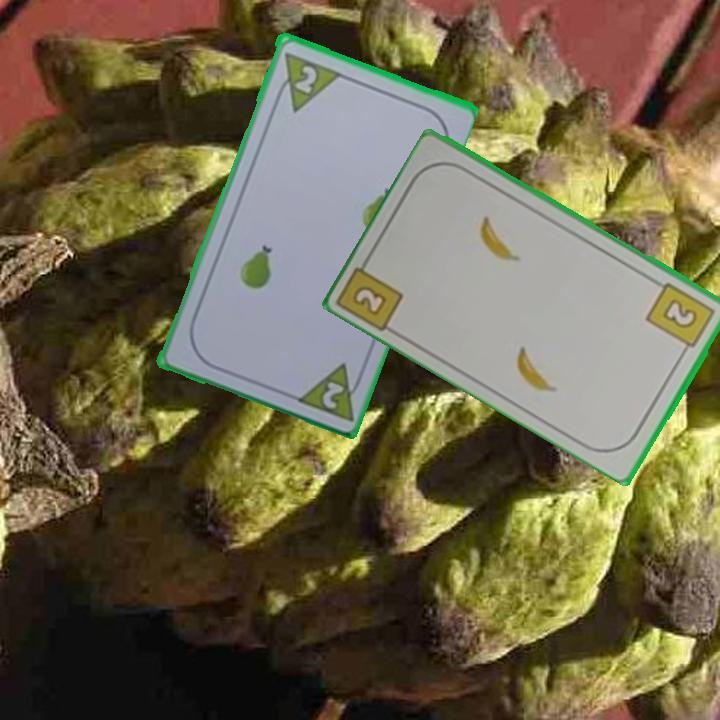2b: (643, 278, 719, 357), (349, 281, 390, 319)
2p: (291, 357, 368, 424), (291, 61, 320, 96)
